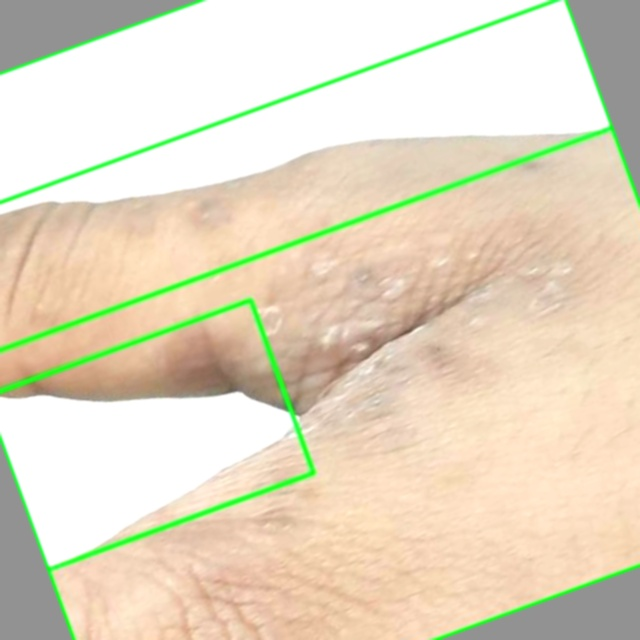Scabies: (0, 0, 639, 639), (0, 0, 612, 349), (0, 299, 313, 569)
